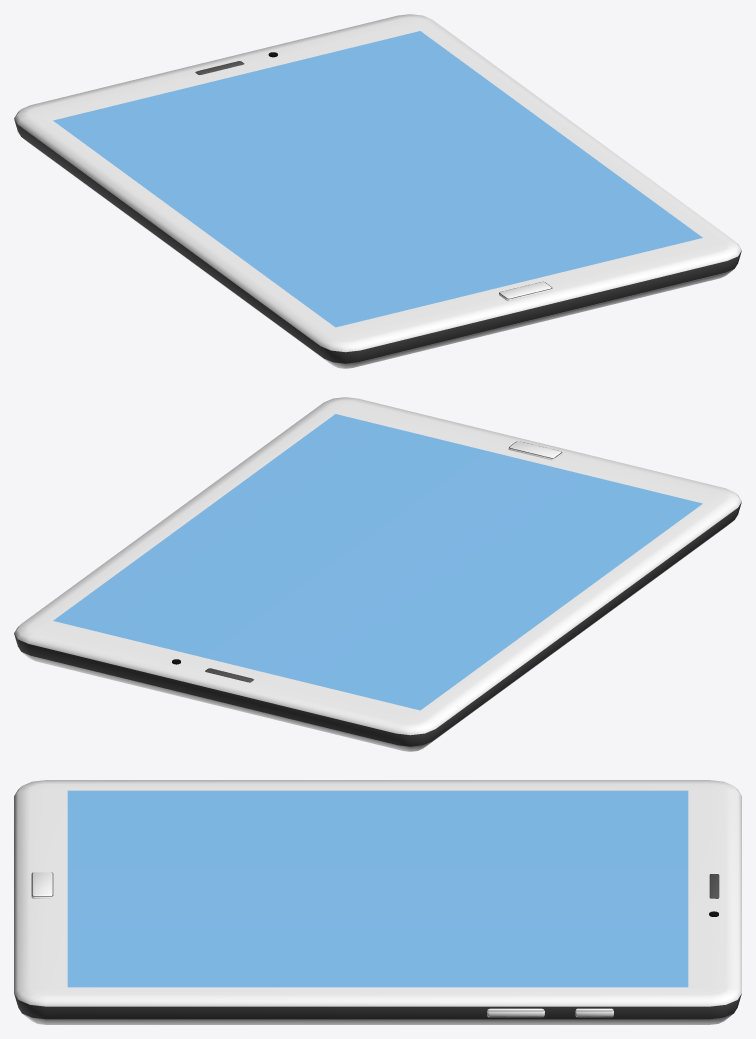
Rendered from Tablet.glb.
3 renders of one model, top to bottom at view 1: azimuth 30°, elevation 25°; view 2: azimuth 150°, elevation 25°; view 3: azimuth 270°, elevation 25°, orthographic. The views are drawn at different scales.
Visible parts, largest first — view 1: ChamferBox001; view 2: ChamferBox001; view 3: ChamferBox001, ChamferBox002, ChamferBox005.
Boxes of the visible parts, <box> form: ChamferBox001: <box>14,14,741,368</box>; ChamferBox001: <box>14,397,741,751</box>; ChamferBox001: <box>14,780,741,1024</box>; ChamferBox002: <box>31,872,53,898</box>; ChamferBox005: <box>487,1008,544,1017</box>.
Bounding box in the file's own units: 44.12 × 3.65 × 60.34.
